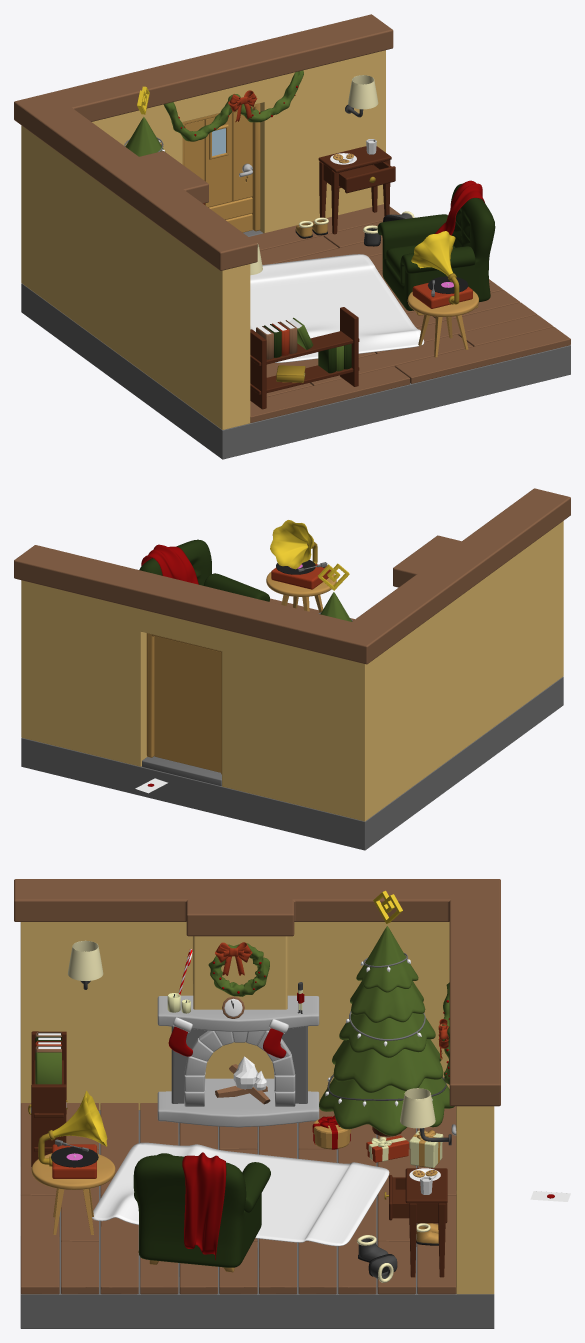
The model's file is room.glb.
The picture shows the model from 3 angles, top to bottom: view 1: azimuth 30°, elevation 25°; view 2: azimuth 150°, elevation 25°; view 3: azimuth 270°, elevation 25°; orthographic projection. The views are drawn at different scales.
Visible parts, largest first — view 1: walls, ceiling, floor-boards, floor-bottom, rug, chair, door-wing, shelf, cupboard, wreath-door, table, grampohone-speaker (+6 smaller); view 2: walls, ceiling, floor-bottom, door-wing, chair, grampohone-speaker, door-frame, chair-blanket, door-floor, table, gramophone-base; view 3: walls, floor-boards, ceiling, floor-bottom, tree, rug, chair, fireplace-cover, chair-blanket, fireplace-arch, shelf, cupboard (+13 smaller).
Boxes of the visible parts, x1,y1,x2,y2 form: walls: (21, 50, 385, 429); ceiling: (14, 14, 393, 270); floor-boards: (249, 204, 570, 422); floor-bottom: (21, 283, 570, 459); rug: (250, 254, 424, 362); chair: (377, 183, 495, 310); door-wing: (185, 108, 252, 232); shelf: (250, 307, 359, 409); cupboard: (318, 146, 391, 234); wreath-door: (163, 70, 303, 141); table: (407, 291, 478, 357); grampohone-speaker: (411, 231, 455, 276); walls: (21, 521, 563, 821); ceiling: (14, 488, 570, 664); floor-bottom: (21, 676, 563, 850); door-wing: (154, 636, 220, 772); chair: (139, 539, 269, 601); grampohone-speaker: (270, 520, 313, 569); door-frame: (146, 633, 221, 774); chair-blanket: (141, 544, 198, 584); door-floor: (142, 756, 221, 785); table: (266, 572, 336, 612); gramophone-base: (271, 564, 330, 589); walls: (20, 922, 494, 1294); floor-boards: (20, 1103, 456, 1294); ceiling: (14, 879, 500, 1106); floor-bottom: (20, 1110, 494, 1328); tree: (319, 926, 454, 1135); rug: (92, 1142, 389, 1246); chair: (133, 1153, 270, 1267); fireplace-cover: (157, 995, 319, 1127); chair-blanket: (182, 1152, 226, 1260); fireplace-arch: (184, 1030, 295, 1106); shelf: (31, 1031, 66, 1166); cupboard: (405, 1168, 447, 1277).
Size of what is drawn, in the model's own units: 5.1 by 3.24 by 5.83.
